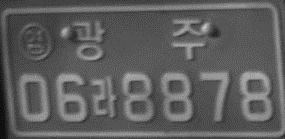0: (16, 72, 51, 122)
6: (54, 73, 89, 122)
7: (197, 70, 231, 122)
8: (238, 69, 274, 122), (159, 71, 194, 123), (119, 72, 155, 122)
광주_D: (71, 19, 206, 62)
라: (89, 76, 117, 118)
영: (15, 22, 53, 62)
